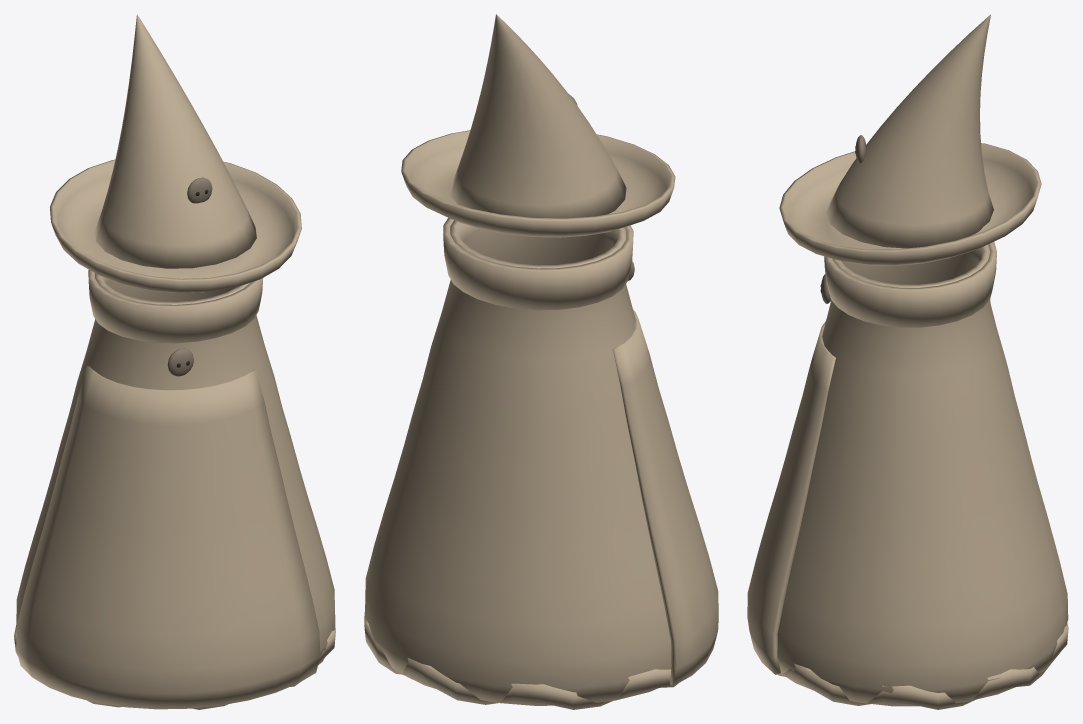
File: traveler_outfit.glb
3 views of the same model, side by side, from view 1: azimuth 30°, elevation 25°; view 2: azimuth 150°, elevation 25°; view 3: azimuth 270°, elevation 25° (orthographic). The views are drawn at different scales.
Parts seen in each view (by area): view 1: TravelerOutfit; view 2: TravelerOutfit; view 3: TravelerOutfit.
Part boxes in pixels (box(x1,y1,x2,y2)): TravelerOutfit: box(14, 14, 335, 709); TravelerOutfit: box(364, 14, 718, 709); TravelerOutfit: box(747, 14, 1068, 709).
Size of the model in its own units: 0.6254 by 1.24 by 0.578.
